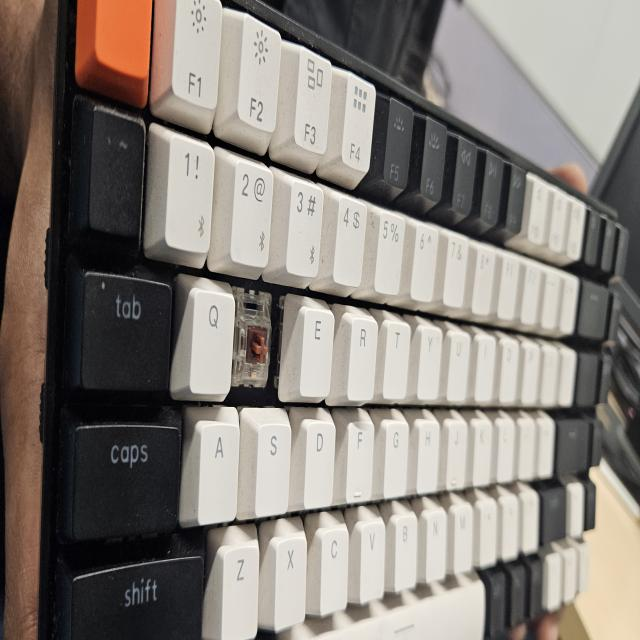C: (237, 293, 276, 395)
